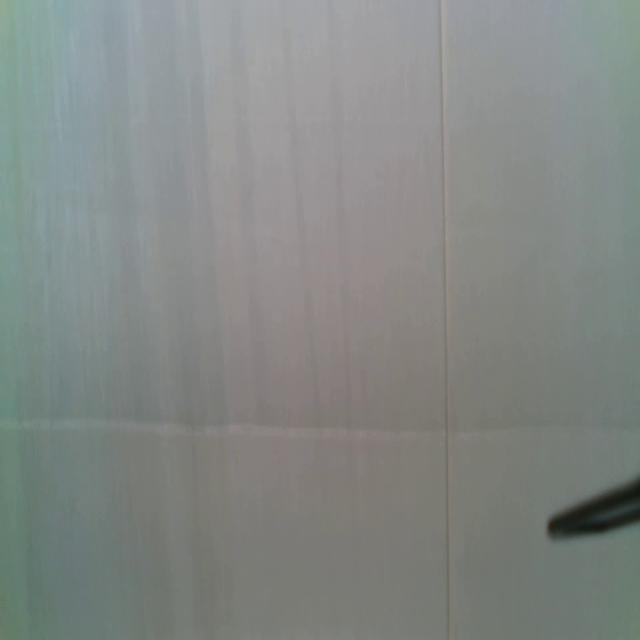crease: (438, 0, 452, 640)
